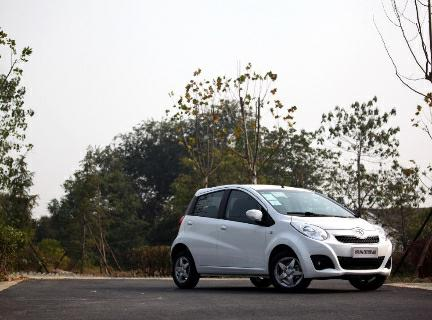江淮-悦悦: (165, 178, 402, 295)
